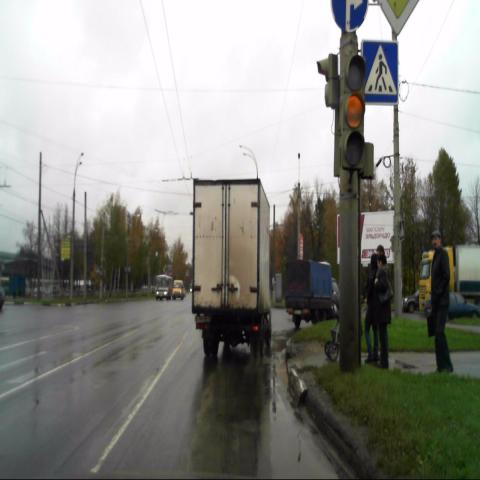5_19_1: (362, 40, 397, 104)
